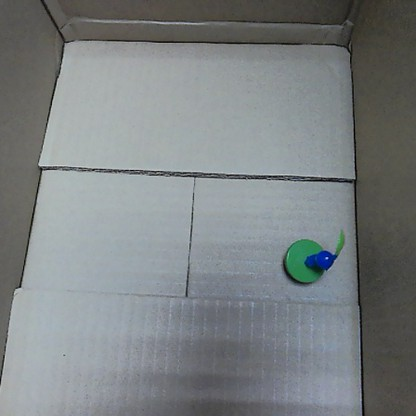leafairy: (283, 229, 346, 286)
